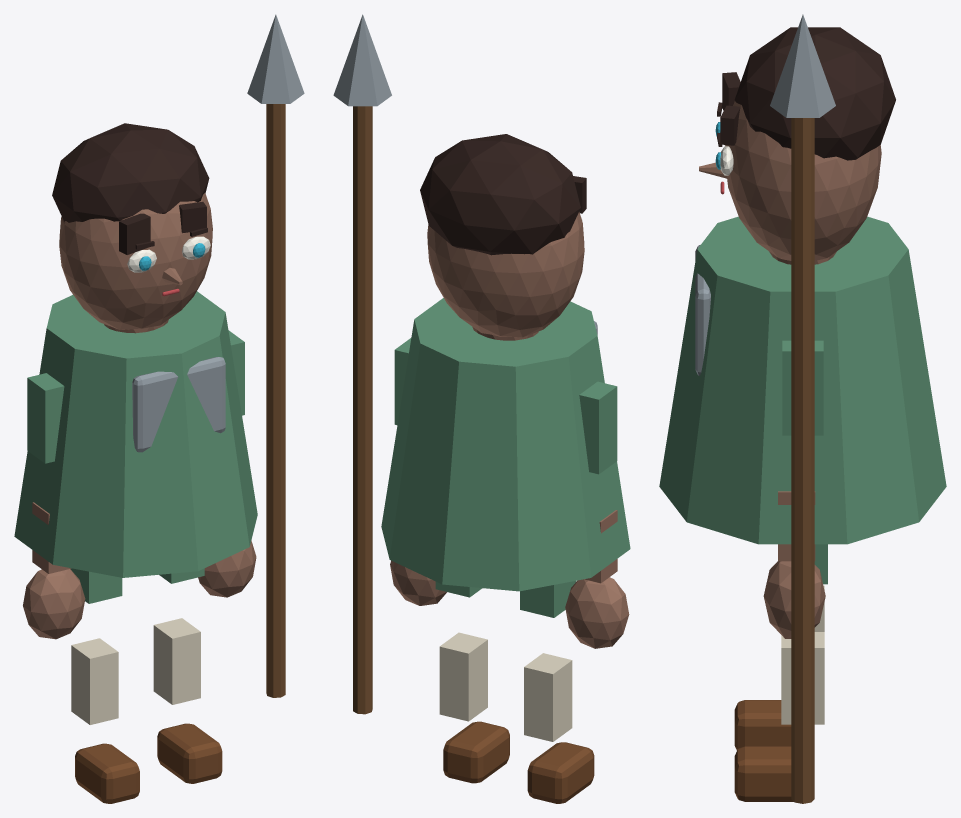
The model's file is mara.glb.
3 views of the same model, side by side, from view 1: azimuth 30°, elevation 25°; view 2: azimuth 150°, elevation 25°; view 3: azimuth 270°, elevation 25° (orthographic). The views are drawn at different scales.
Parts seen in each view (by area): view 1: Tunic, Head, Spear, HairCap, ChestGuard, ShinR, ShinL, HandL, BootR, BootL, SpearTip, UpperArmL (+6 smaller); view 2: Tunic, HairCap, Spear, Head, ShinL, ShinR, HandL, BootL, BootR, SpearTip, UpperArmL, HandR (+3 smaller); view 3: Tunic, Spear, Head, HairCap, SpearTip, BootR, BootL, HandR, ShinR, UpperArmR, ChestGuard, HairFringeR (+1 smaller).
Boxes of the visible parts, x1=… form: Tunic: x1=14, y1=291, x2=257, y2=577; Head: x1=59, y1=193, x2=212, y2=329; Spear: x1=266, y1=104, x2=285, y2=697; HairCap: x1=52, y1=123, x2=209, y2=222; ChestGuard: x1=132, y1=357, x2=225, y2=452; ShinR: x1=153, y1=618, x2=200, y2=704; ShinL: x1=71, y1=638, x2=118, y2=724; HandL: x1=23, y1=569, x2=85, y2=639; BootR: x1=157, y1=723, x2=222, y2=783; BootL: x1=75, y1=743, x2=139, y2=803; SpearTip: x1=247, y1=14, x2=304, y2=103; UpperArmL: x1=27, y1=373, x2=64, y2=463; Tunic: x1=381, y1=298, x2=630, y2=591; HairCap: x1=420, y1=134, x2=580, y2=255; Spear: x1=353, y1=106, x2=372, y2=714; Head: x1=427, y1=212, x2=584, y2=337; ShinL: x1=524, y1=653, x2=572, y2=741; ShinR: x1=439, y1=632, x2=487, y2=721; HandL: x1=565, y1=577, x2=629, y2=648; BootL: x1=527, y1=742, x2=594, y2=803; BootR: x1=443, y1=721, x2=509, y2=783; SpearTip: x1=333, y1=14, x2=391, y2=106; UpperArmL: x1=579, y1=381, x2=617, y2=474; HandR: x1=390, y1=560, x2=446, y2=605; Tunic: x1=659, y1=216, x2=946, y2=544; Spear: x1=791, y1=118, x2=814, y2=803; Head: x1=725, y1=101, x2=881, y2=260; HairCap: x1=734, y1=27, x2=895, y2=160; SpearTip: x1=770, y1=14, x2=835, y2=117; BootR: x1=734, y1=746, x2=793, y2=801; BootL: x1=734, y1=700, x2=791, y2=750; HandR: x1=763, y1=561, x2=825, y2=638; ShinR: x1=781, y1=632, x2=824, y2=724; UpperArmR: x1=782, y1=340, x2=823, y2=435; ChestGuard: x1=695, y1=245, x2=710, y2=375; HairFringeR: x1=720, y1=105, x2=740, y2=145.
Bounding box in the file's own units: 0.882 × 2.23 × 0.6936.
